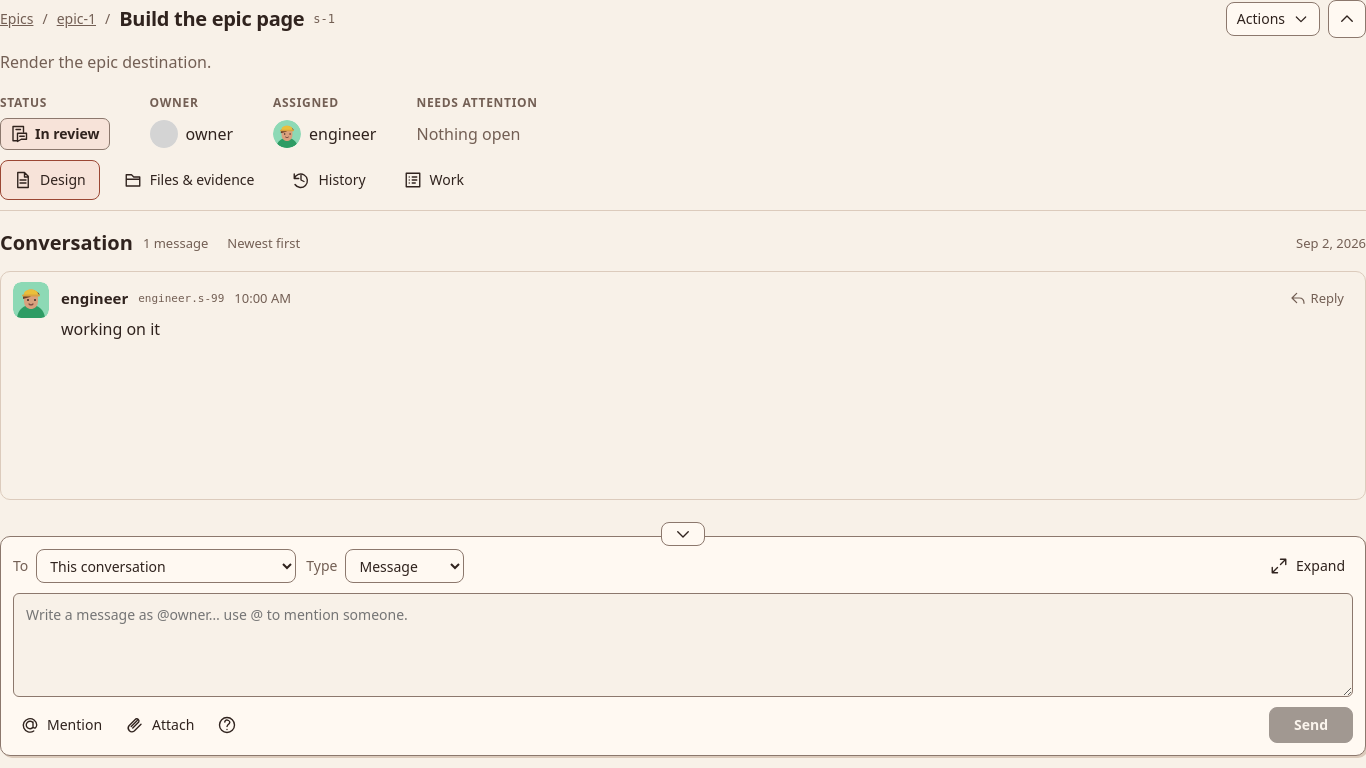
TicketPage › shows the status word, assignee, criteria with verdicts, docs and thread
Check: the element with test id "work-status" reads "In review", box [35,124,100,143]
Check: the element with test id "work-assigned" reads "engineer", box [309,123,376,145]
What coordinates should you click on to do the following:
click the button with test id "work-work"
I would click on:
 (434, 180)
Its box is [390,160,478,200].
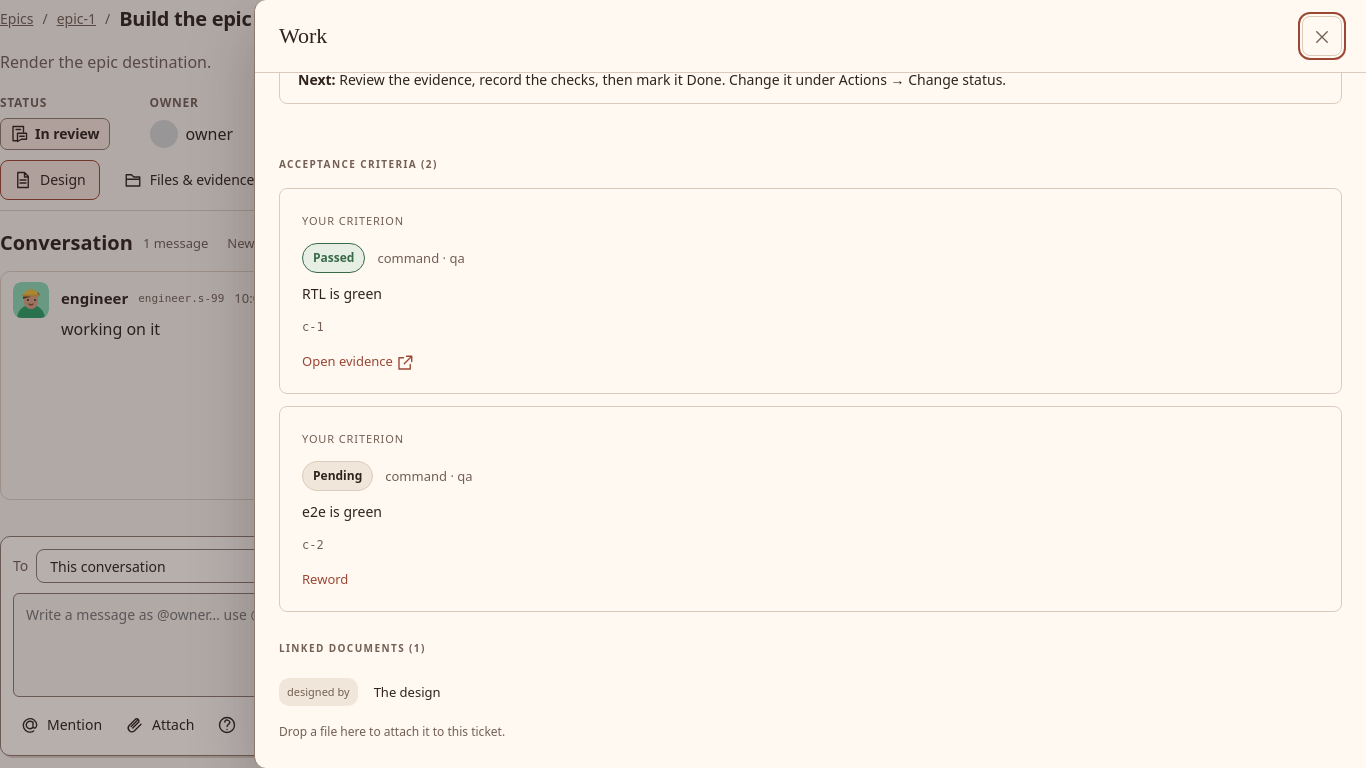
Check: the text "RTL is green" is shown, box [302,284,382,303]
Check: the text "e2e is green" is shown, box [302,502,382,521]
Check: the text "Passed" is shown, box [302,243,365,273]
